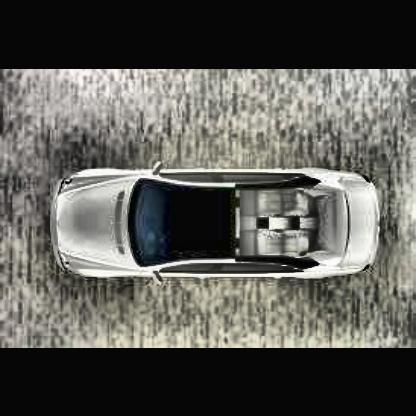Maybach Landaulet Convertible 2012: (48, 160, 385, 289)
